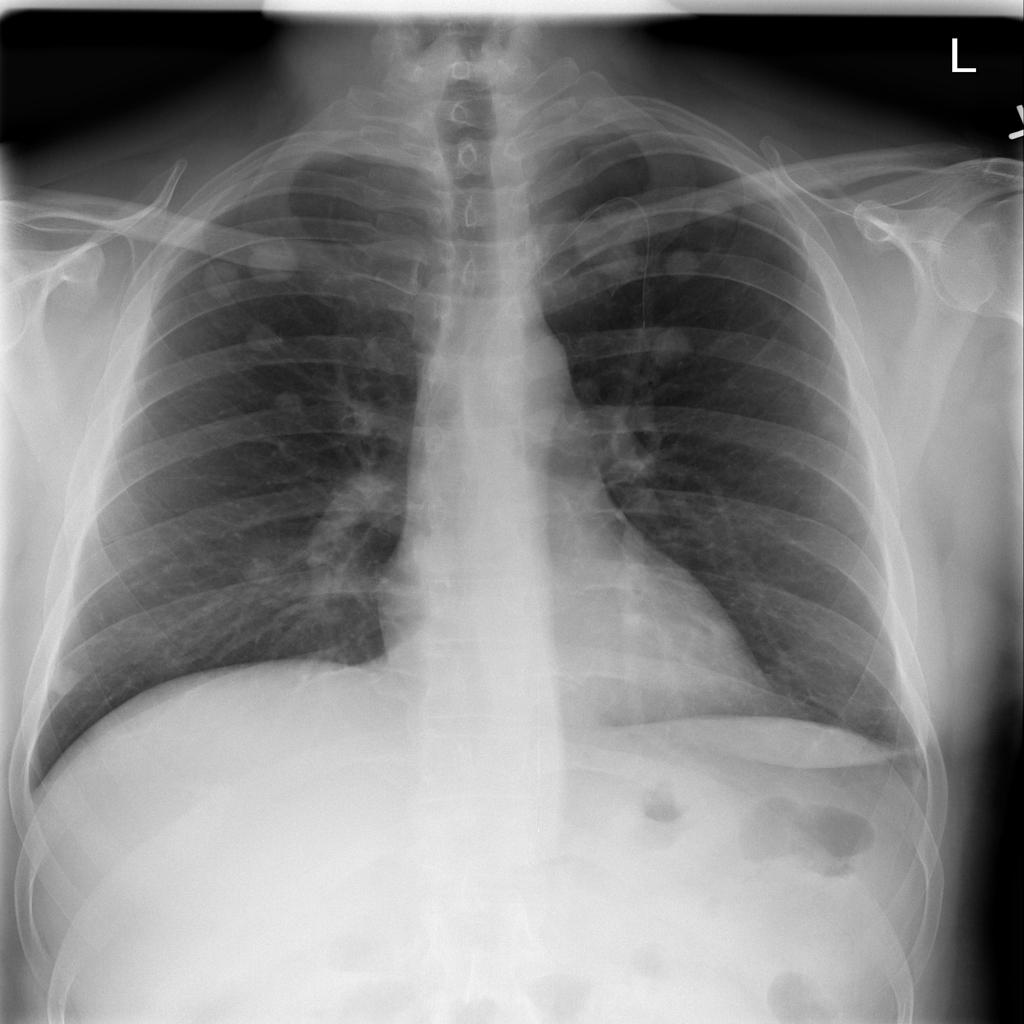nodule: (568, 203, 653, 280), (633, 314, 709, 380), (796, 389, 868, 455), (238, 229, 309, 291), (231, 313, 295, 357), (657, 242, 711, 293), (192, 256, 247, 306), (260, 383, 319, 428), (235, 546, 291, 593), (41, 654, 94, 702), (689, 188, 747, 231), (559, 366, 613, 412)
